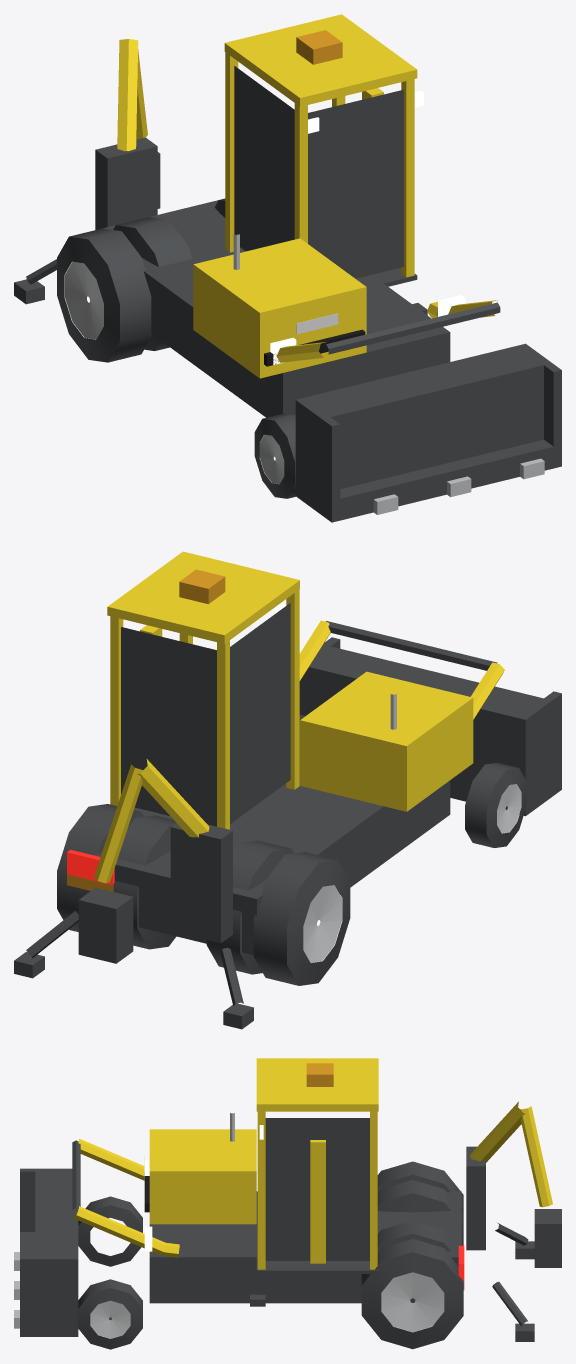
Rendered from backhoe_yellow_lod1.glb.
3 renders of one model, top to bottom at view 1: azimuth 30°, elevation 25°; view 2: azimuth 150°, elevation 25°; view 3: azimuth 270°, elevation 25°, orthographic. The views are drawn at different scales.
Visible parts, largest first — view 1: backhoe_yellow_lod1; view 2: backhoe_yellow_lod1; view 3: backhoe_yellow_lod1.
Boxes of the visible parts, x1,y1,x2,y2 form: backhoe_yellow_lod1: (14,14,561,522); backhoe_yellow_lod1: (14,551,561,1029); backhoe_yellow_lod1: (14,1058,561,1349).
Bounding box in the file's own units: 0.117 × 0.146 × 0.281.
